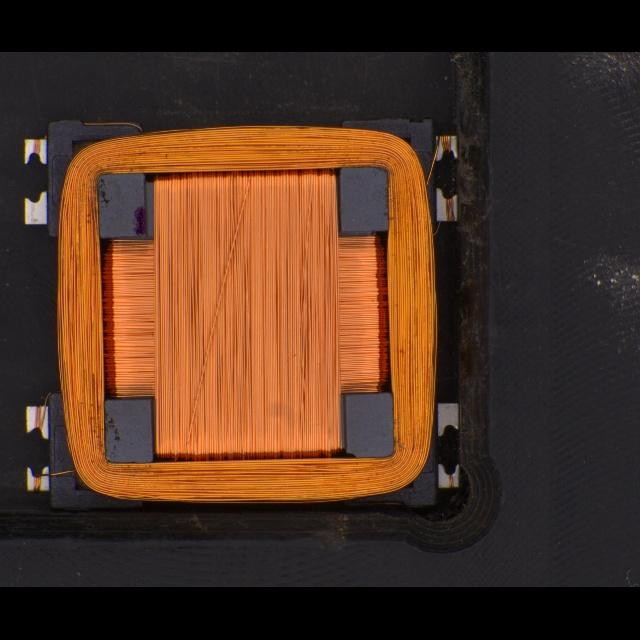Winding_Z: (49, 120, 441, 505)
